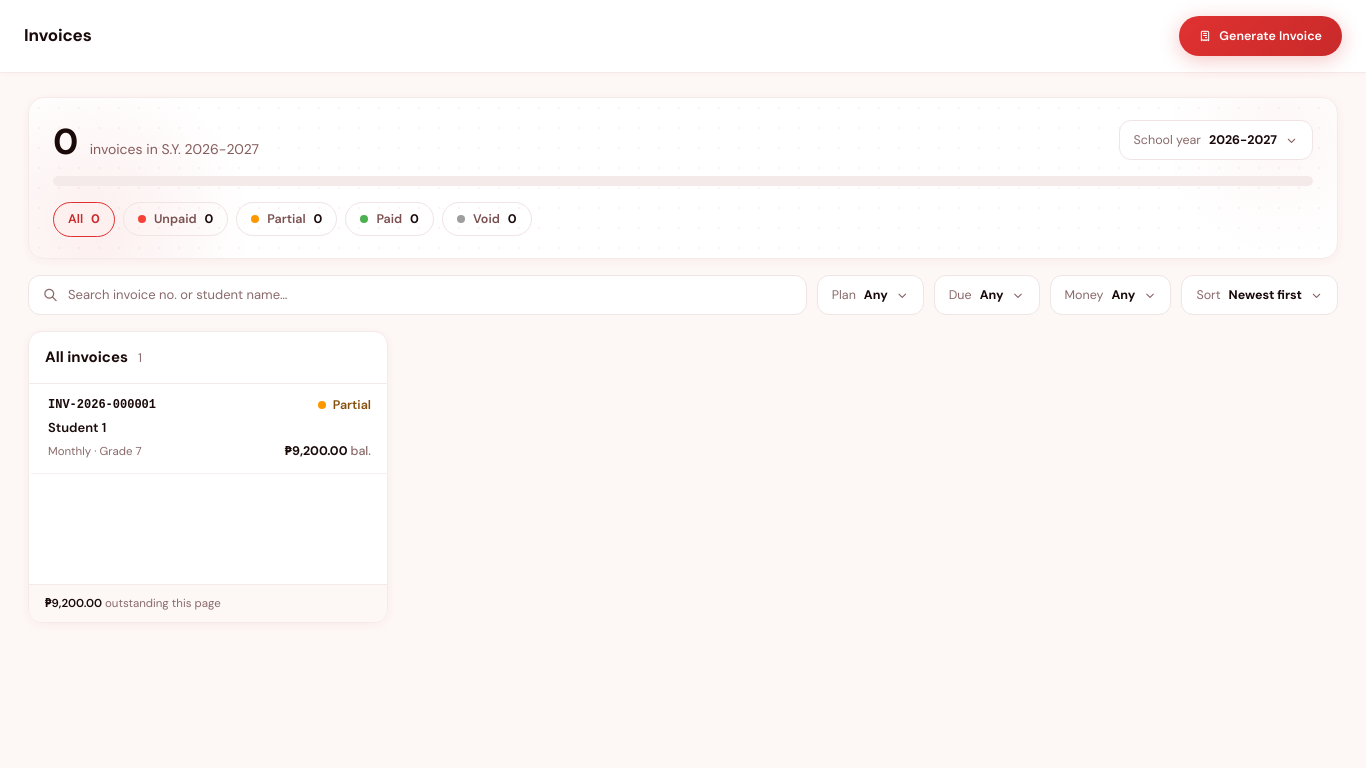
Overdue › shows the next installment's date, not the first one's
Click the text "INV-2026-000001": [102, 405] box [48, 396, 156, 414]
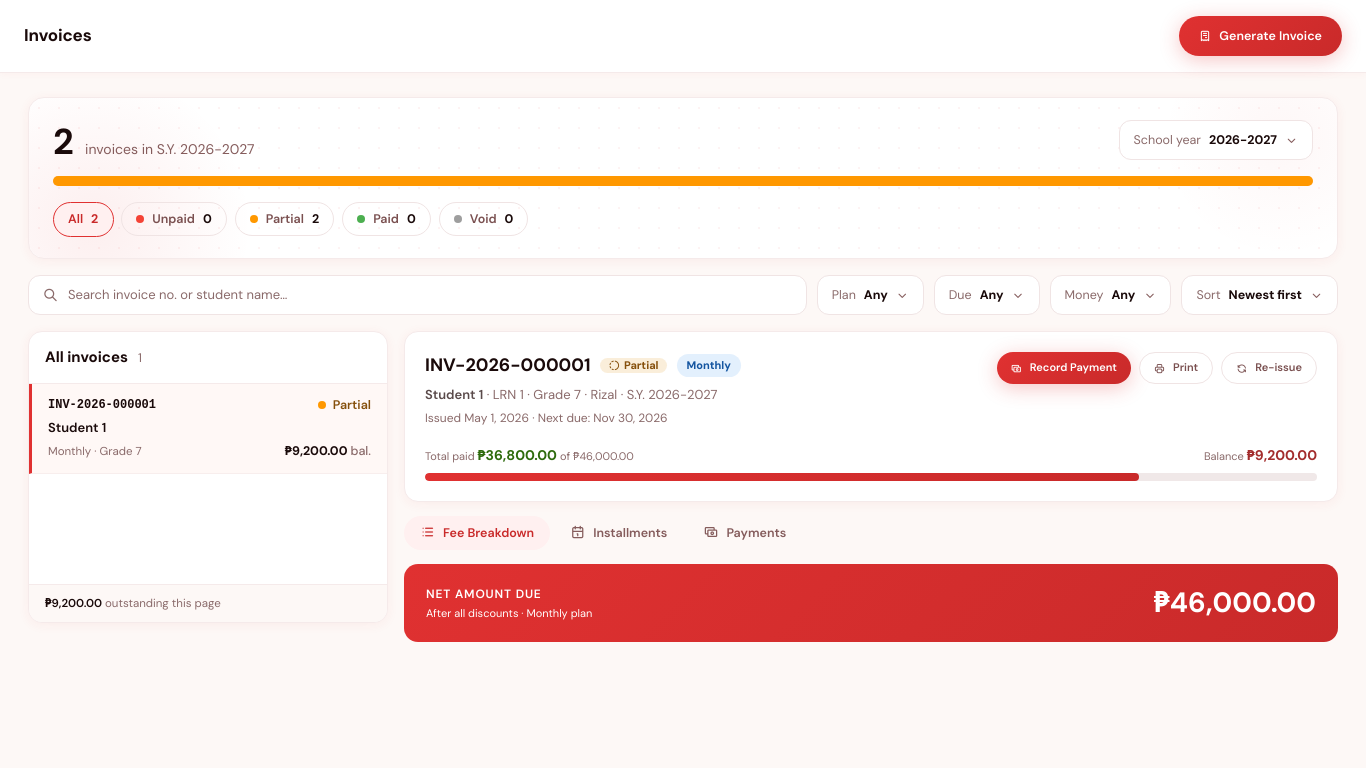
Result: the text "Issued May 1, 2026 · Next due: Nov 30, 2026" is shown at [425, 410, 668, 426]
